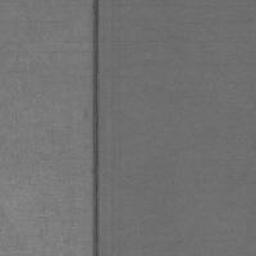Welding line: (90, 0, 100, 256)
